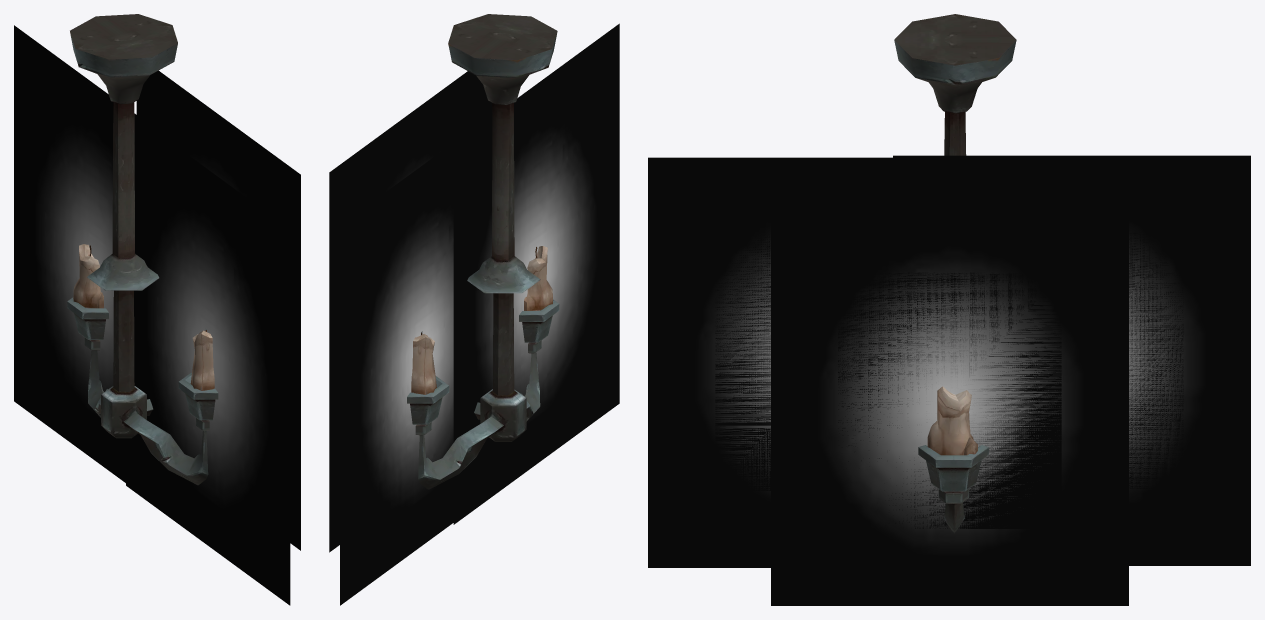
3 views of the same model, side by side, from view 1: azimuth 30°, elevation 25°; view 2: azimuth 150°, elevation 25°; view 3: azimuth 270°, elevation 25° (orthographic). The views are drawn at different scales.
Bounding box in the file's own units: 0.7111 × 1.95 × 2.06.
Materials: 2 (2 with a texture image).
